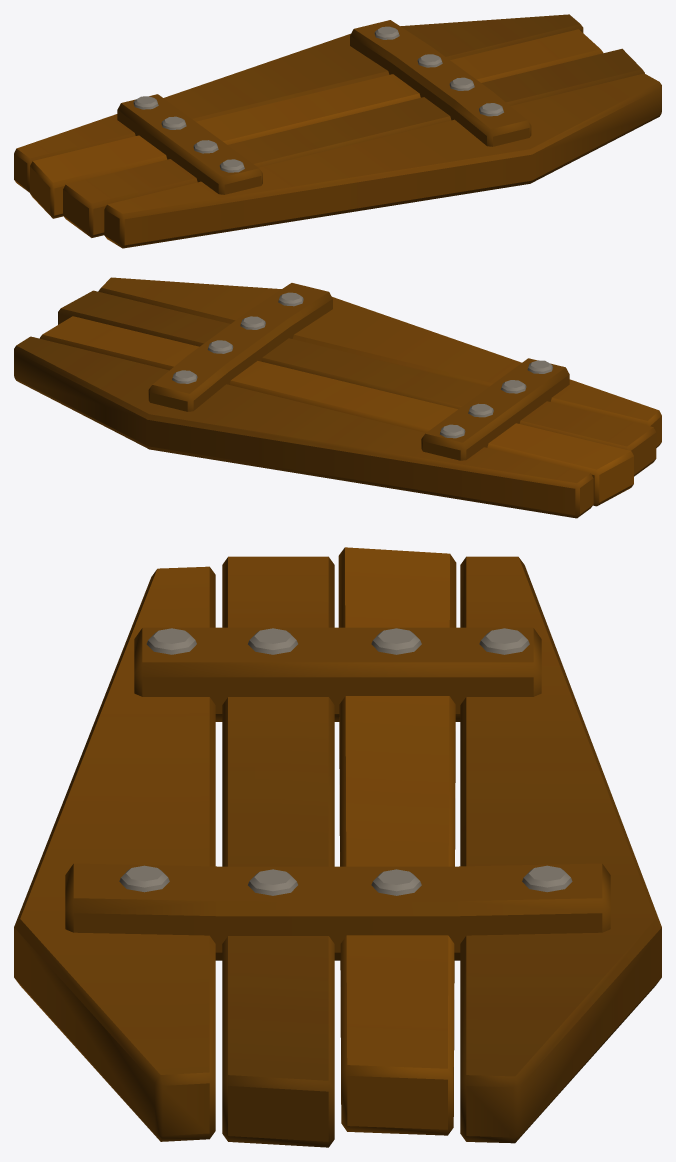
The model's file is Cofin_Lid_2_3.glb.
3 views of the same model, one above another, from view 1: azimuth 30°, elevation 25°; view 2: azimuth 150°, elevation 25°; view 3: azimuth 270°, elevation 25° (orthographic). The views are drawn at different scales.
Parts seen in each view (by area): view 1: Cofin_Lid_2_3; view 2: Cofin_Lid_2_3; view 3: Cofin_Lid_2_3.
Boxes of the visible parts, <box> form: Cofin_Lid_2_3: <box>14,14,661,248</box>; Cofin_Lid_2_3: <box>14,277,661,518</box>; Cofin_Lid_2_3: <box>14,547,661,1147</box>.
Size of the model in its own units: 1.36 by 0.1265 by 0.6911.
Materials: 2 (2 with a texture image).
